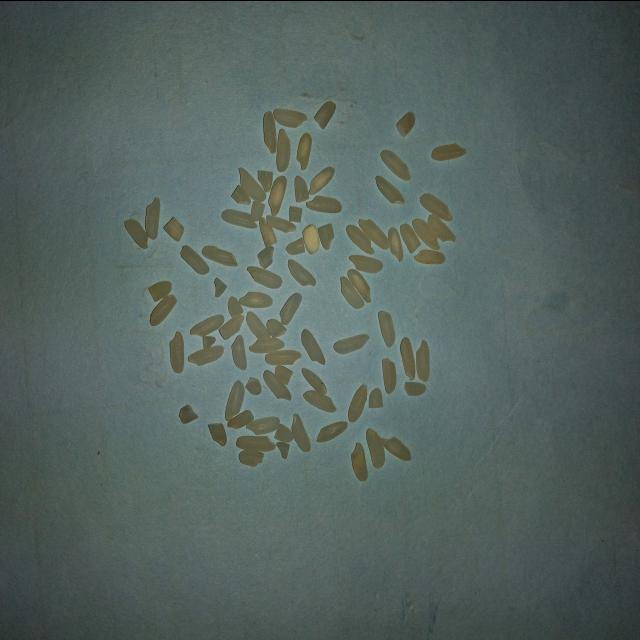Broken: (247, 310, 270, 342), (280, 292, 302, 324), (218, 314, 244, 339), (314, 100, 336, 128), (400, 222, 420, 252), (302, 224, 320, 254), (260, 216, 278, 246), (163, 216, 184, 241), (228, 408, 254, 428), (148, 280, 172, 301), (208, 422, 228, 446), (396, 110, 414, 136), (318, 223, 335, 249), (238, 450, 264, 466), (266, 318, 286, 338), (231, 184, 251, 204), (294, 174, 308, 202), (258, 168, 274, 192), (179, 404, 198, 424), (258, 245, 274, 268), (275, 364, 293, 384), (274, 424, 294, 442), (228, 296, 244, 318), (286, 237, 306, 254), (250, 200, 266, 220), (404, 381, 426, 395), (246, 376, 262, 394), (369, 387, 383, 407), (215, 276, 228, 296), (276, 441, 290, 458), (288, 206, 302, 222), (202, 336, 216, 348)
Full: (238, 166, 266, 202), (358, 218, 389, 249), (380, 149, 410, 180), (180, 244, 210, 274), (150, 294, 178, 326), (420, 192, 452, 220), (412, 218, 440, 250), (346, 224, 375, 254), (264, 369, 292, 400), (301, 328, 325, 364), (224, 378, 244, 419), (348, 268, 372, 302), (291, 412, 311, 452), (246, 266, 282, 288), (428, 214, 456, 242), (340, 276, 364, 308), (268, 175, 287, 215), (348, 384, 368, 422), (366, 428, 385, 468), (288, 258, 316, 285), (376, 176, 404, 203), (190, 314, 224, 336), (302, 389, 336, 411), (309, 166, 335, 194), (202, 245, 238, 265), (188, 344, 224, 364), (222, 208, 258, 228), (381, 436, 411, 460), (235, 434, 271, 454), (400, 336, 416, 380), (316, 420, 348, 442), (334, 334, 369, 354), (125, 218, 148, 248), (273, 107, 307, 127), (246, 415, 280, 435), (302, 367, 328, 393), (378, 310, 396, 347), (306, 194, 342, 212), (145, 196, 160, 238), (352, 442, 368, 481), (276, 128, 290, 172), (432, 142, 466, 160), (349, 254, 383, 272), (296, 132, 312, 169), (170, 330, 184, 372), (263, 110, 277, 152), (416, 339, 430, 381), (264, 349, 302, 364), (231, 334, 247, 369), (239, 291, 273, 307), (266, 214, 296, 232), (248, 337, 284, 352), (388, 226, 403, 261), (382, 358, 397, 393), (414, 249, 446, 263)
